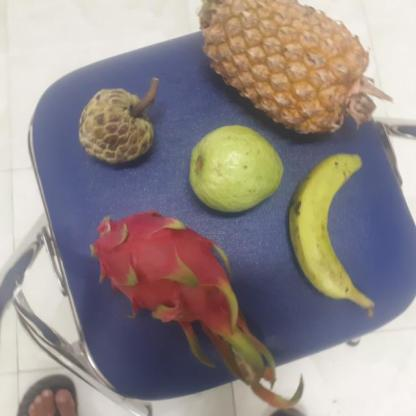annona: (76, 87, 154, 166)
banana: (285, 152, 367, 301)
guava: (186, 122, 284, 212)
pineapple: (204, 5, 373, 138)
pitaya: (86, 211, 234, 326)
